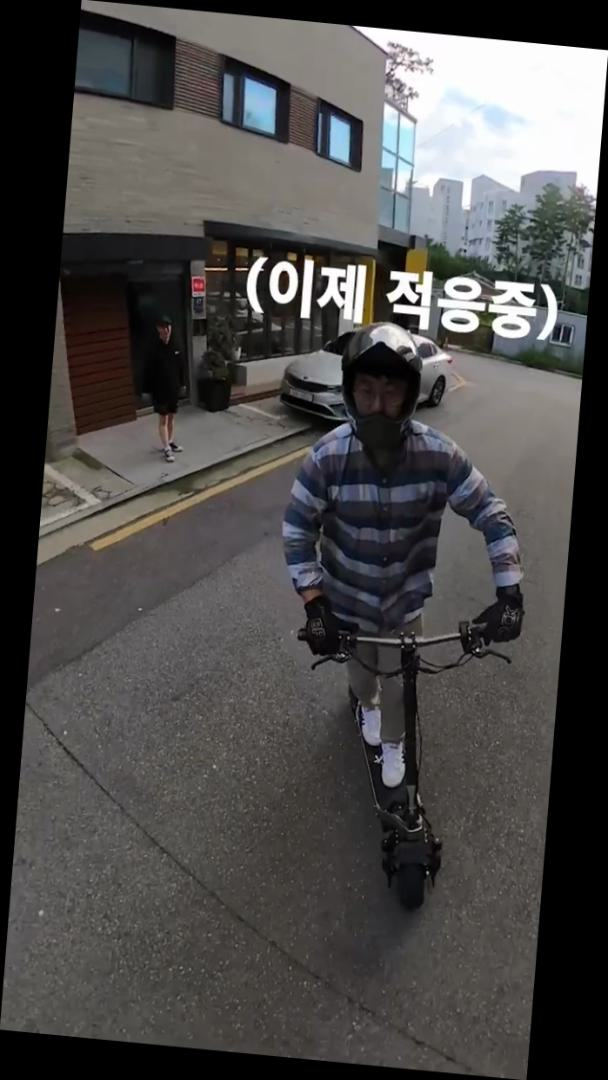helmet: (248, 312, 552, 924)
